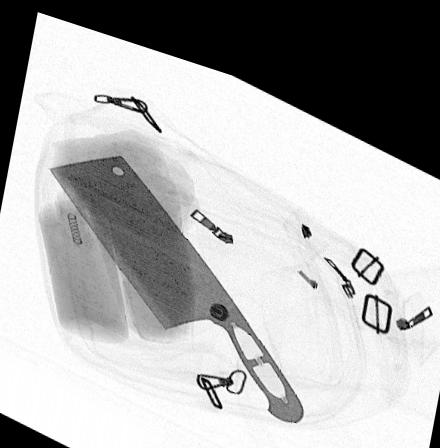Knife: (48, 146, 303, 403)
